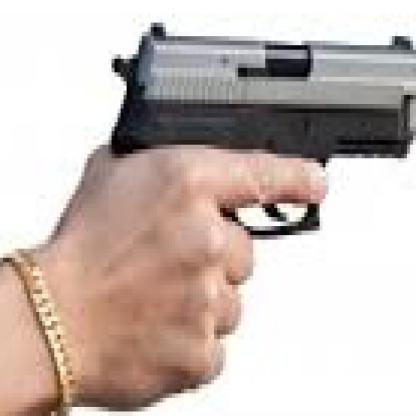gun: (81, 13, 413, 398)
